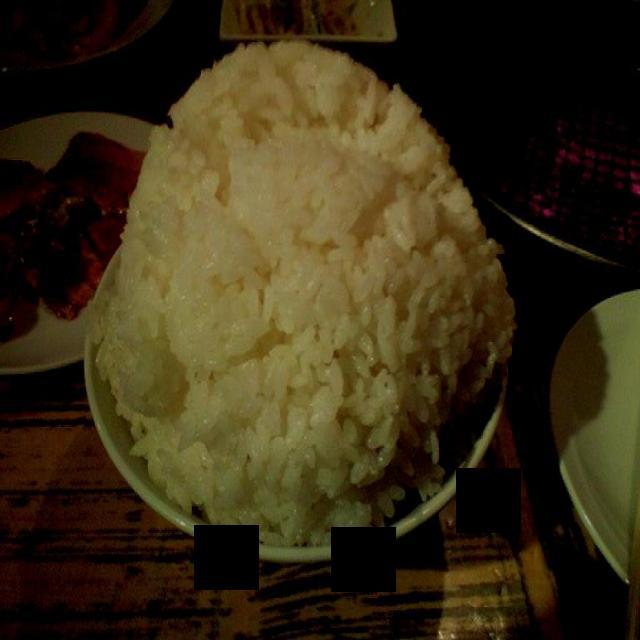rice: (98, 37, 516, 547)
